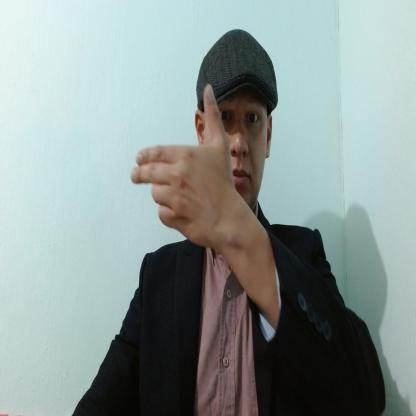H: (130, 84, 232, 244)
